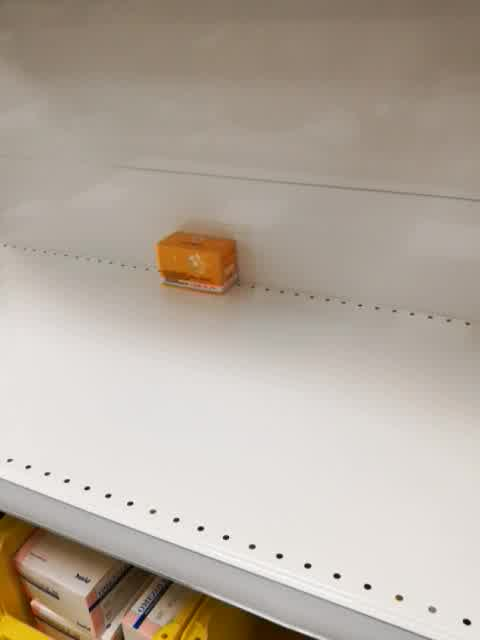jasminetea: (154, 228, 240, 297)
